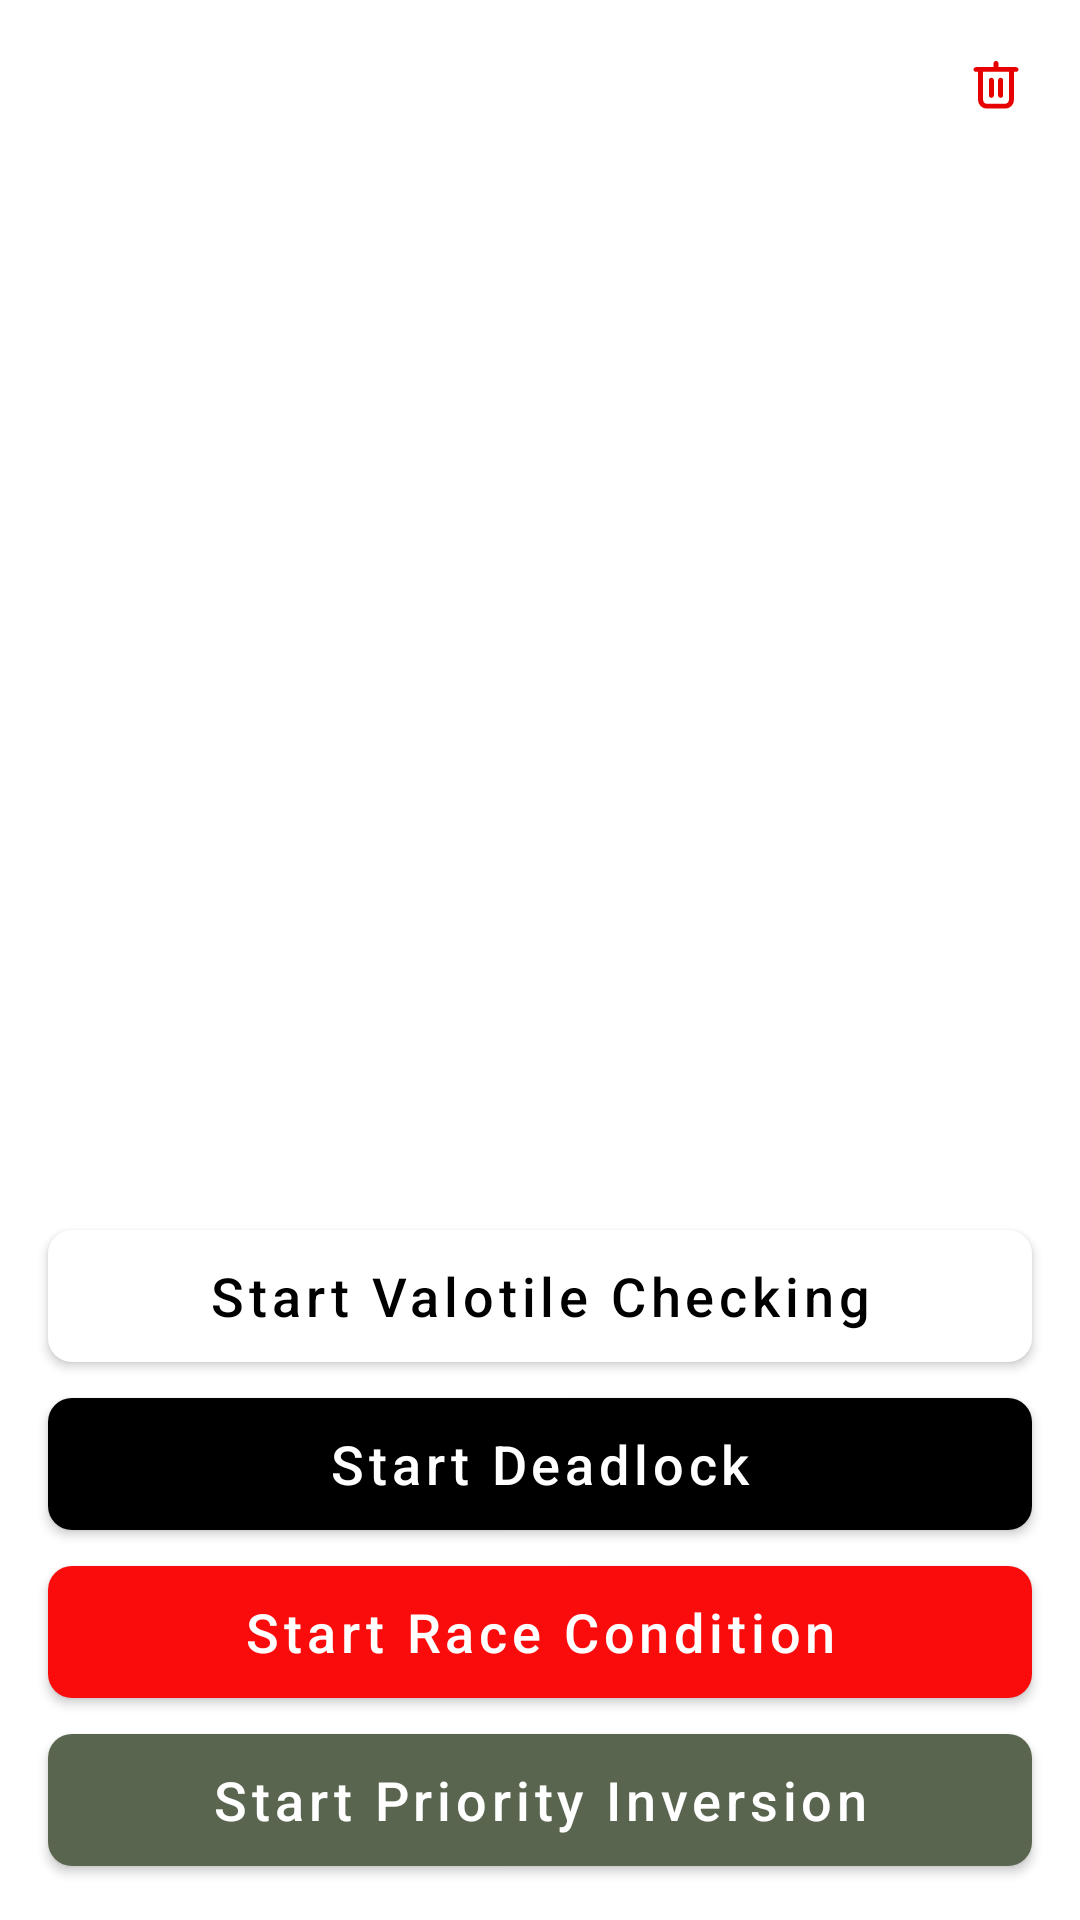

Screen size 1080px x 1920px. Icon name, then its box in pixels as (x1,y1,x2,y2):
clear: (973,61,1019,109)
